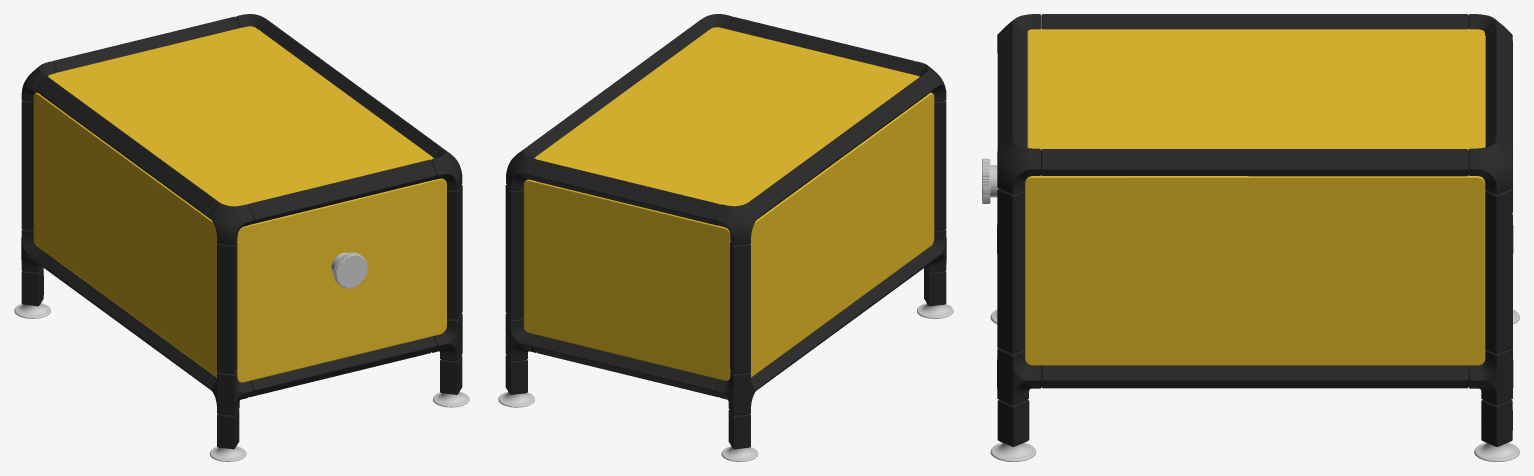
3 renders of one model, left to right at view 1: azimuth 30°, elevation 25°; view 2: azimuth 150°, elevation 25°; view 3: azimuth 270°, elevation 25°, orthographic. The views are drawn at different scales.
Visible parts, largest first — view 1: 229x374x154; view 2: 229x374x154; view 3: 229x374x154.
Boxes of the visible parts, x1,y1,x2,y2 form: 229x374x154: (14, 14, 469, 461); 229x374x154: (498, 14, 953, 461); 229x374x154: (982, 14, 1519, 461).
Size of the model in its own units: 0.3189 by 0.2932 by 0.4707.
